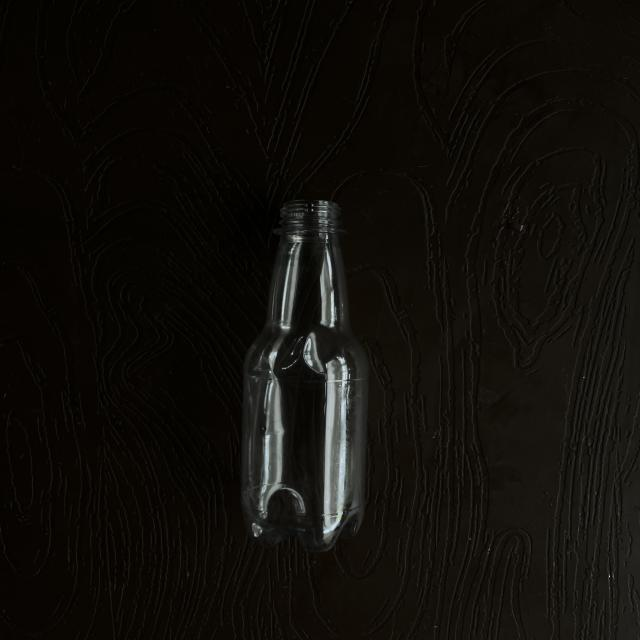PET_ClearBottle: (233, 201, 379, 568)
